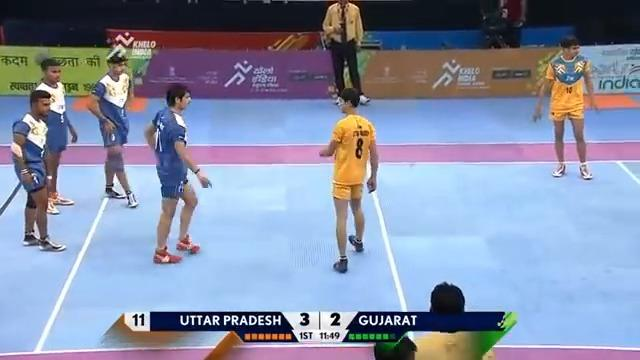Player: (142, 82, 213, 266), (530, 33, 601, 181), (8, 88, 67, 253), (85, 43, 140, 209), (33, 55, 79, 215)
Raider: (317, 86, 380, 274)
referee: (321, 0, 370, 107)
